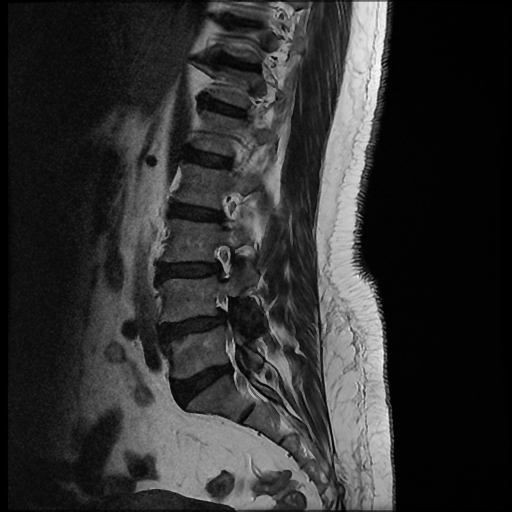RFS0: (200, 231, 244, 287)
